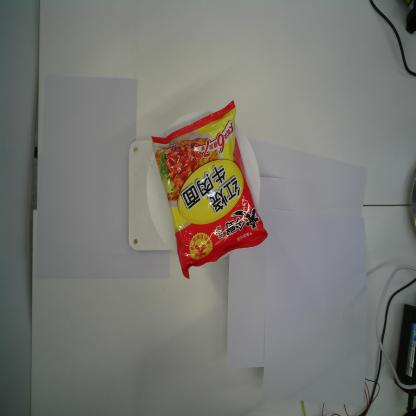Instant Noodles: (151, 99, 269, 281)
